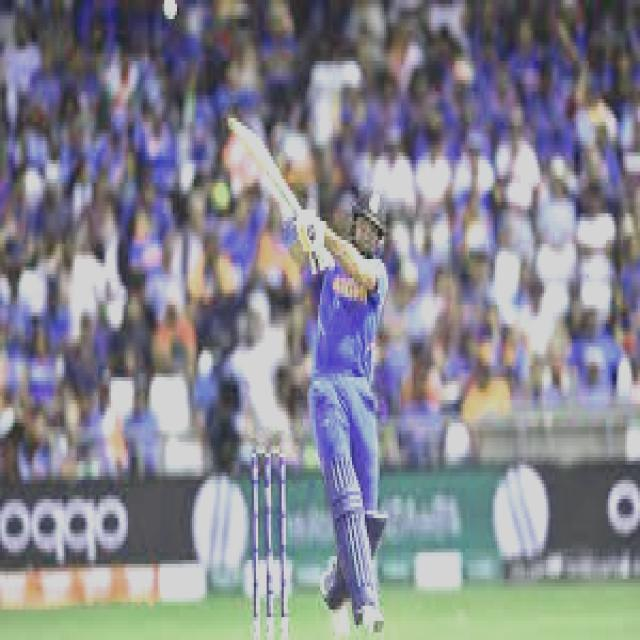toe: (218, 112, 248, 140)
